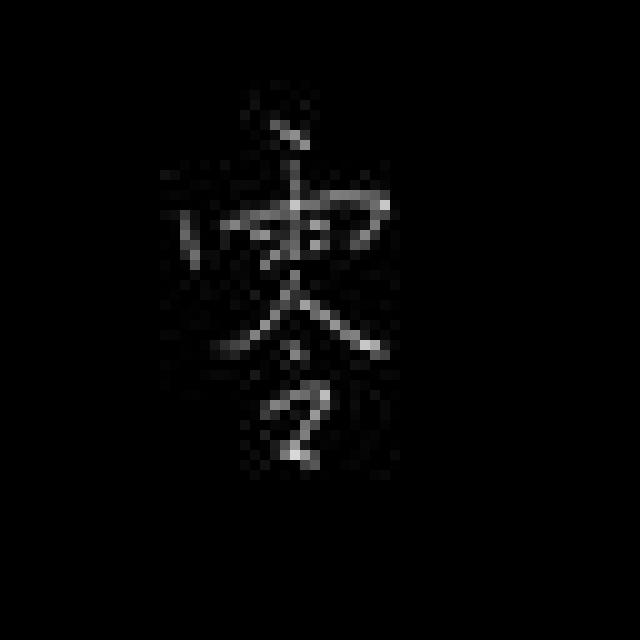0 -zero-: (161, 106, 401, 475)
